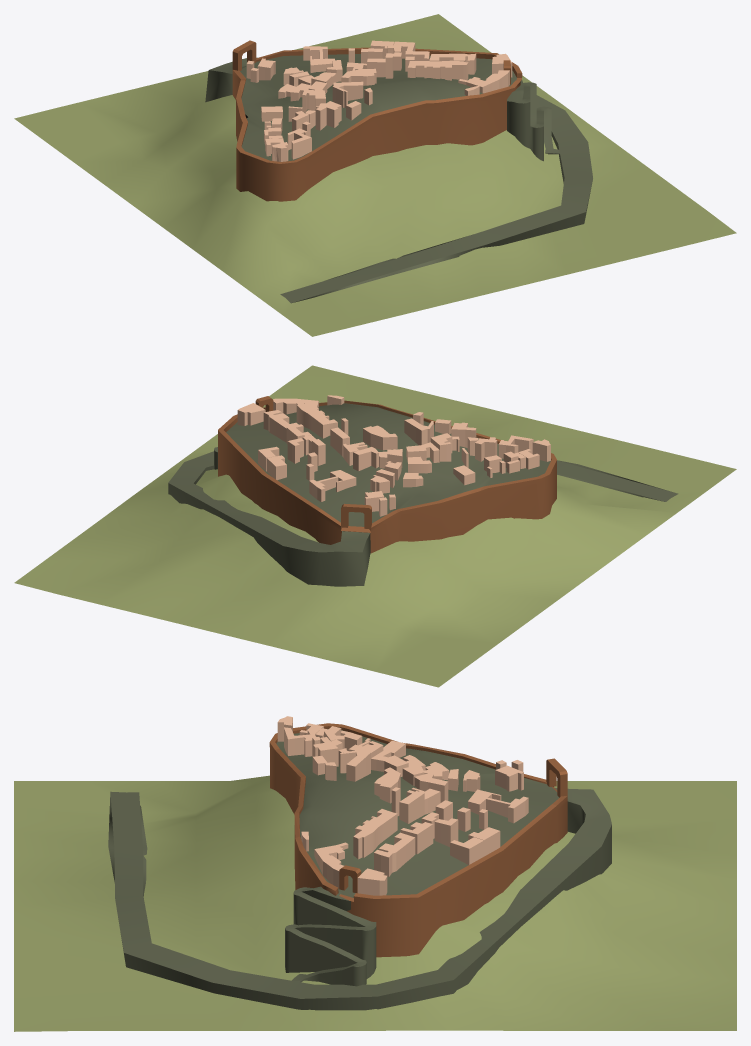
Rendered from ville_v14.fbx.
3 renders of one model, top to bottom at view 1: azimuth 30°, elevation 25°; view 2: azimuth 150°, elevation 25°; view 3: azimuth 270°, elevation 25°, orthographic. The views are drawn at different scales.
Visible parts, largest first — view 1: Ville; view 2: Ville; view 3: Ville.
Boxes of the visible parts, x1,y1,x2,y2 form: Ville: (14, 14, 736, 336); Ville: (14, 365, 736, 687); Ville: (14, 716, 736, 1031).
Size of the model in its own units: 986 by 242 by 1200.
